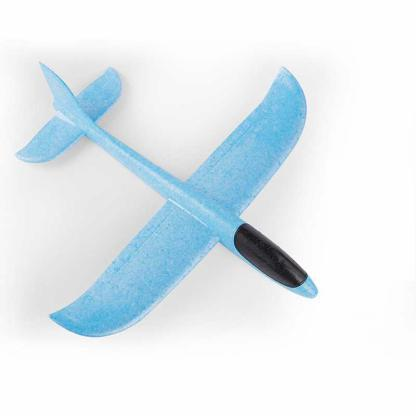CIV_Plane: (15, 48, 321, 344)
